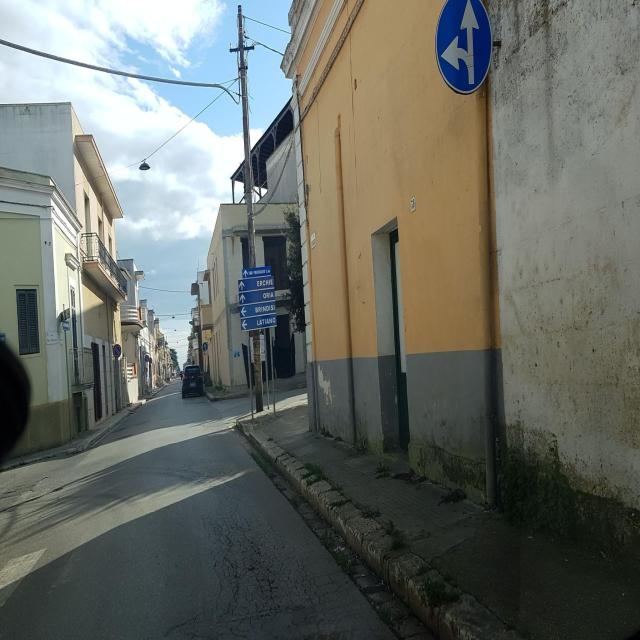forb_stopping: (113, 345, 121, 358)
